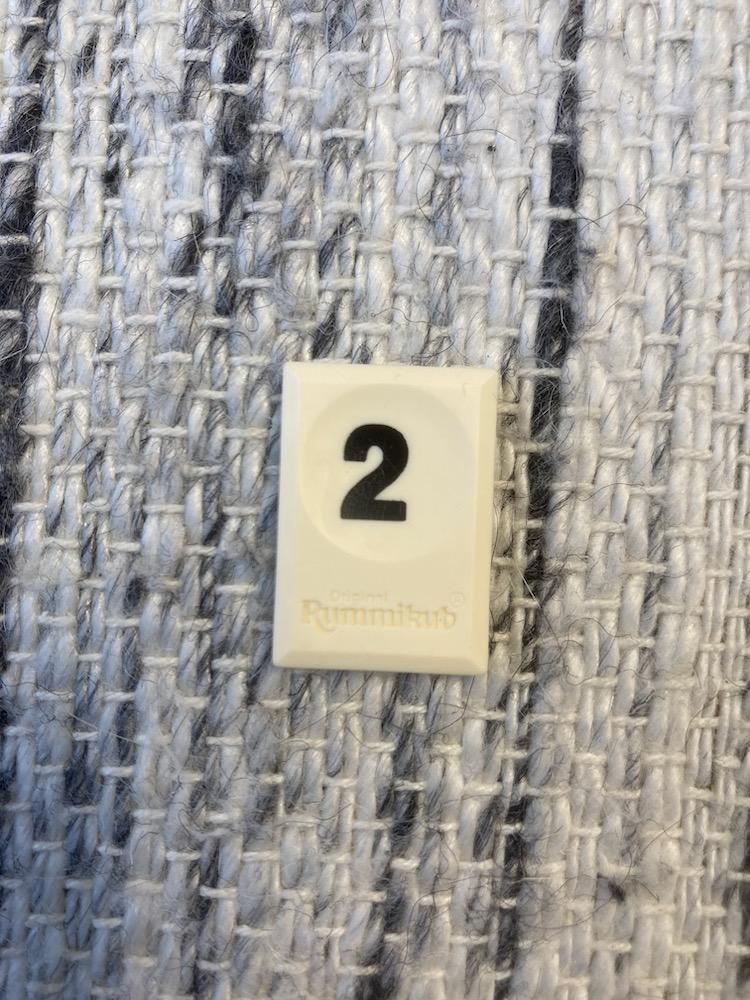black_2: (273, 363, 498, 674)
